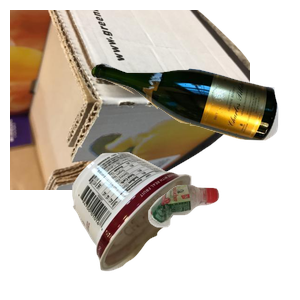cardboard: (10, 10, 250, 190)
glass: (88, 60, 300, 193)
plastic: (146, 182, 300, 300)
trash: (70, 149, 254, 300)
